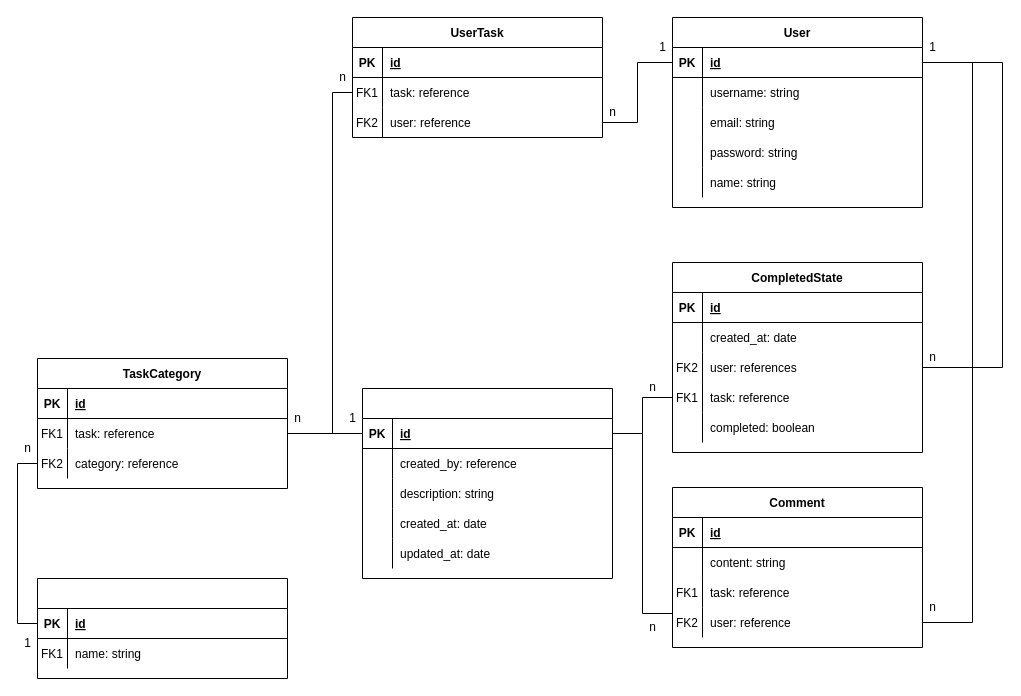
Some shapes in this 1021 by 696 pixel diagram are drawn without their labels. Each missing label, with the box of its shape:
Category: (36, 578, 288, 678)
Task: (362, 388, 612, 578)
